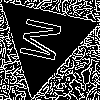M: (19, 15, 72, 65)
